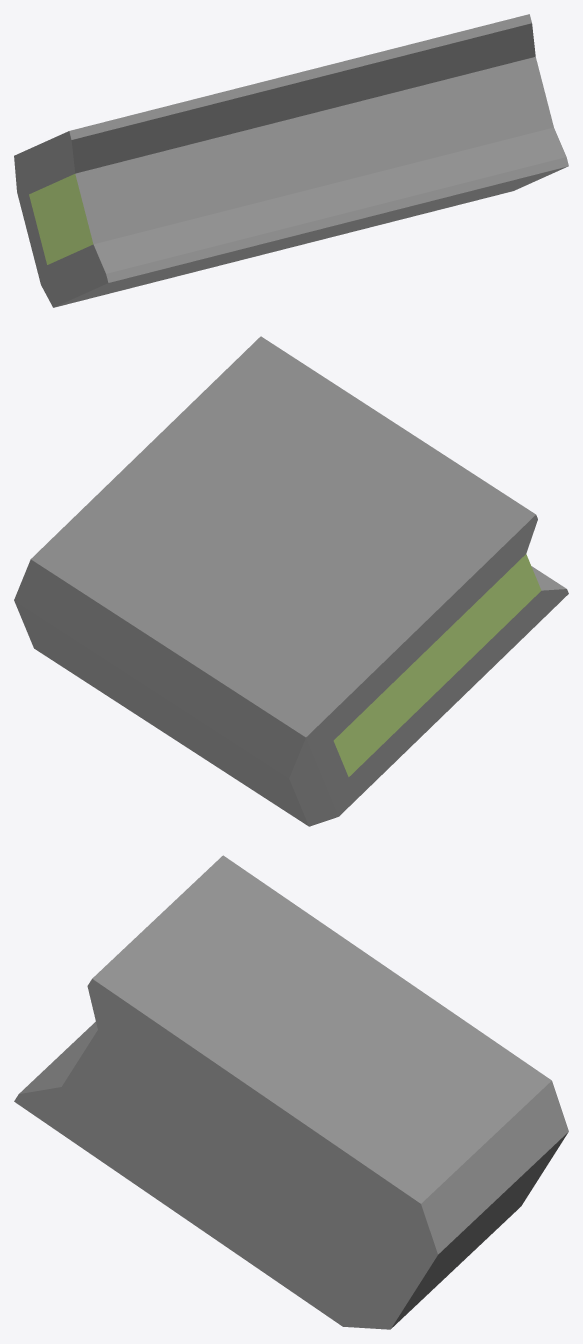
File: book1.FBX
The picture shows the model from 3 angles, top to bottom: view 1: azimuth 30°, elevation 25°; view 2: azimuth 150°, elevation 25°; view 3: azimuth 270°, elevation 25°; orthographic projection. The views are drawn at different scales.
Parts seen in each view (by area): view 1: Box045; view 2: Box045; view 3: Box045.
Boxes of the visible parts, x1=… form: Box045: x1=14, y1=14, x2=568, y2=307; Box045: x1=14, y1=336, x2=568, y2=826; Box045: x1=14, y1=855, x2=568, y2=1329.
Size of the model in its own units: 51.67 by 34.88 by 48.31.
